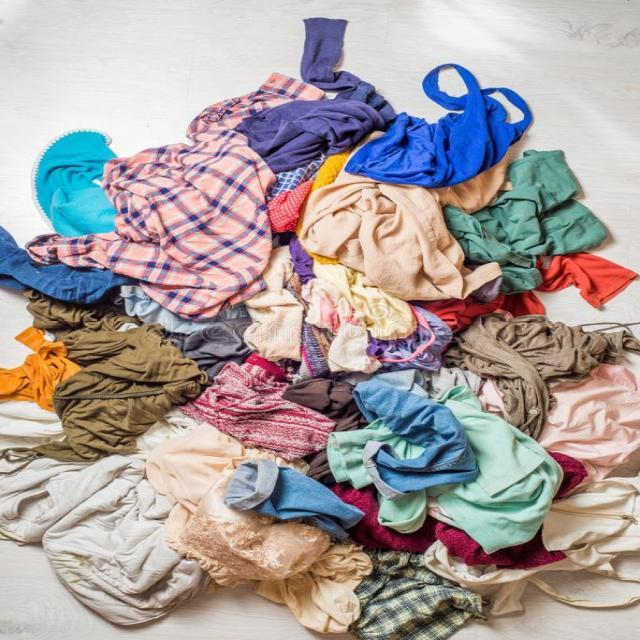clothes: (241, 417, 622, 573), (56, 70, 295, 310), (164, 383, 384, 640), (423, 308, 640, 560), (16, 438, 214, 638), (314, 160, 504, 318), (0, 328, 198, 478), (439, 142, 612, 294), (354, 58, 536, 200), (225, 22, 397, 165)
